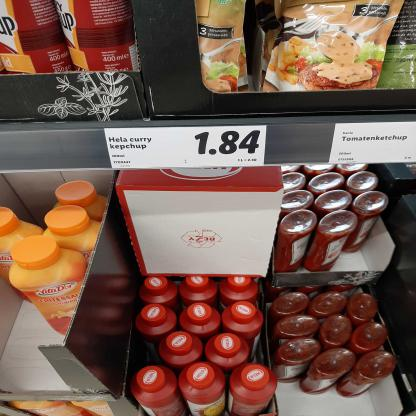prtg: (106, 127, 268, 169), (329, 122, 416, 164)
